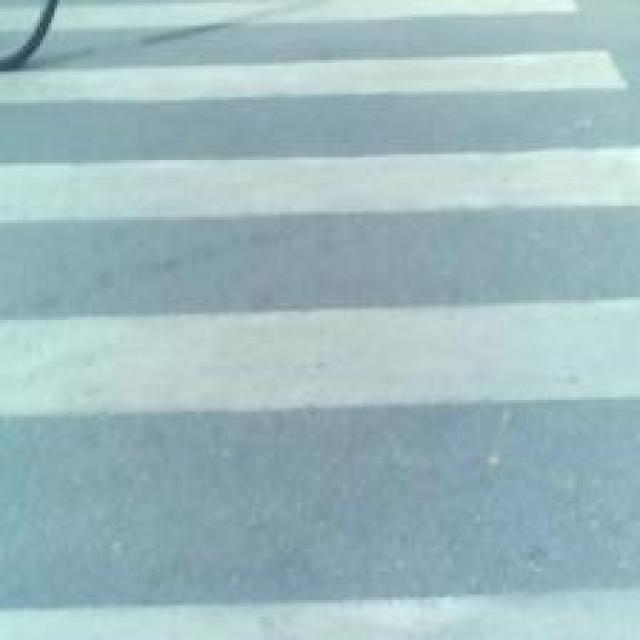zebra: (44, 56, 576, 602)
